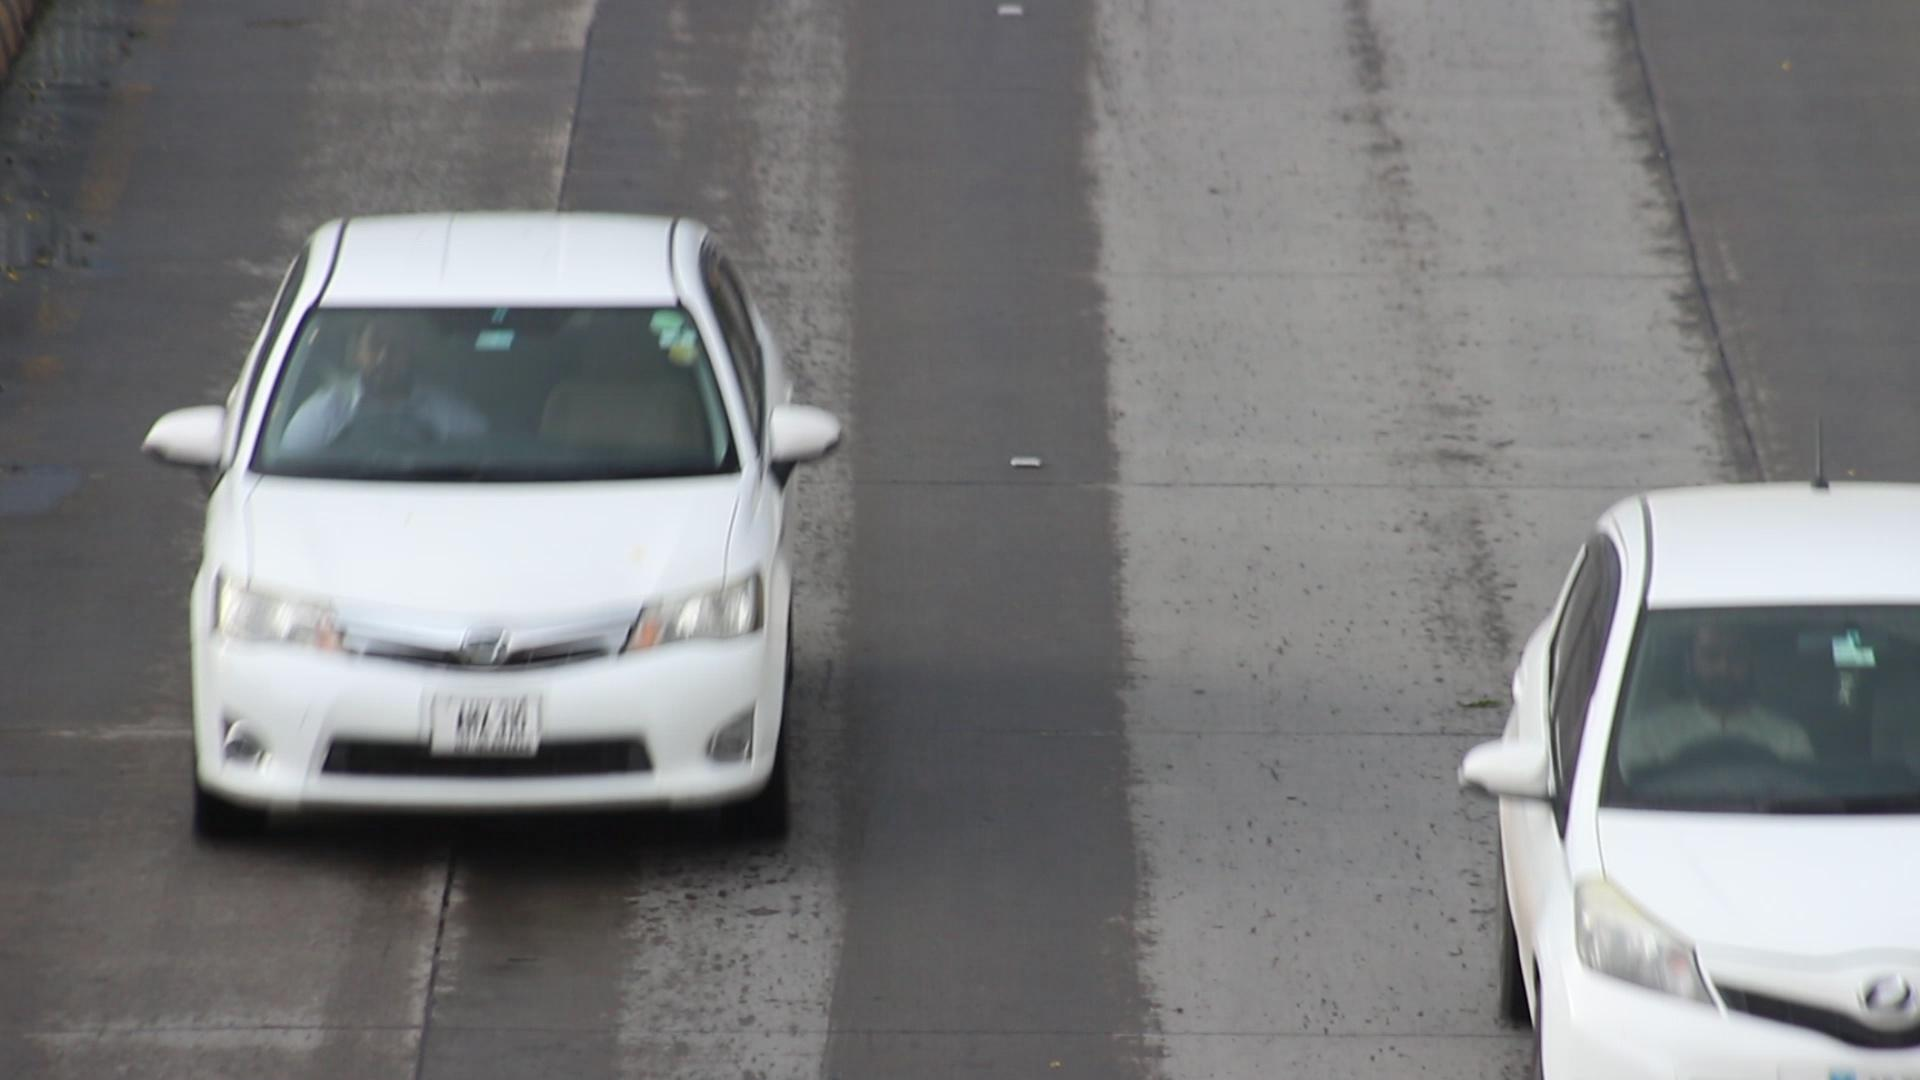windshield: (248, 280, 750, 491)
